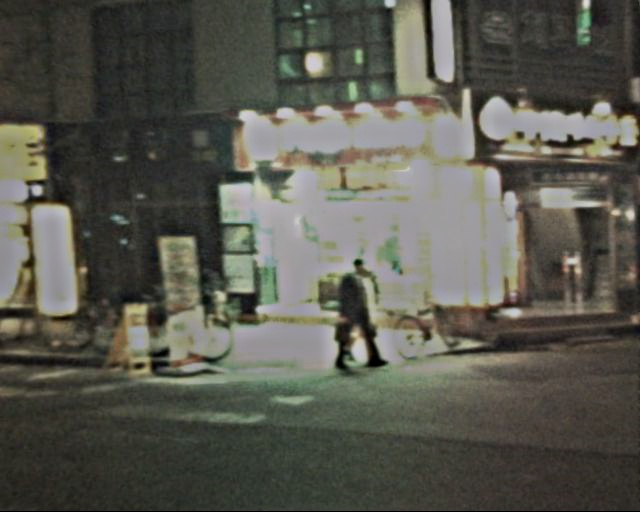person: (321, 256, 382, 377)
